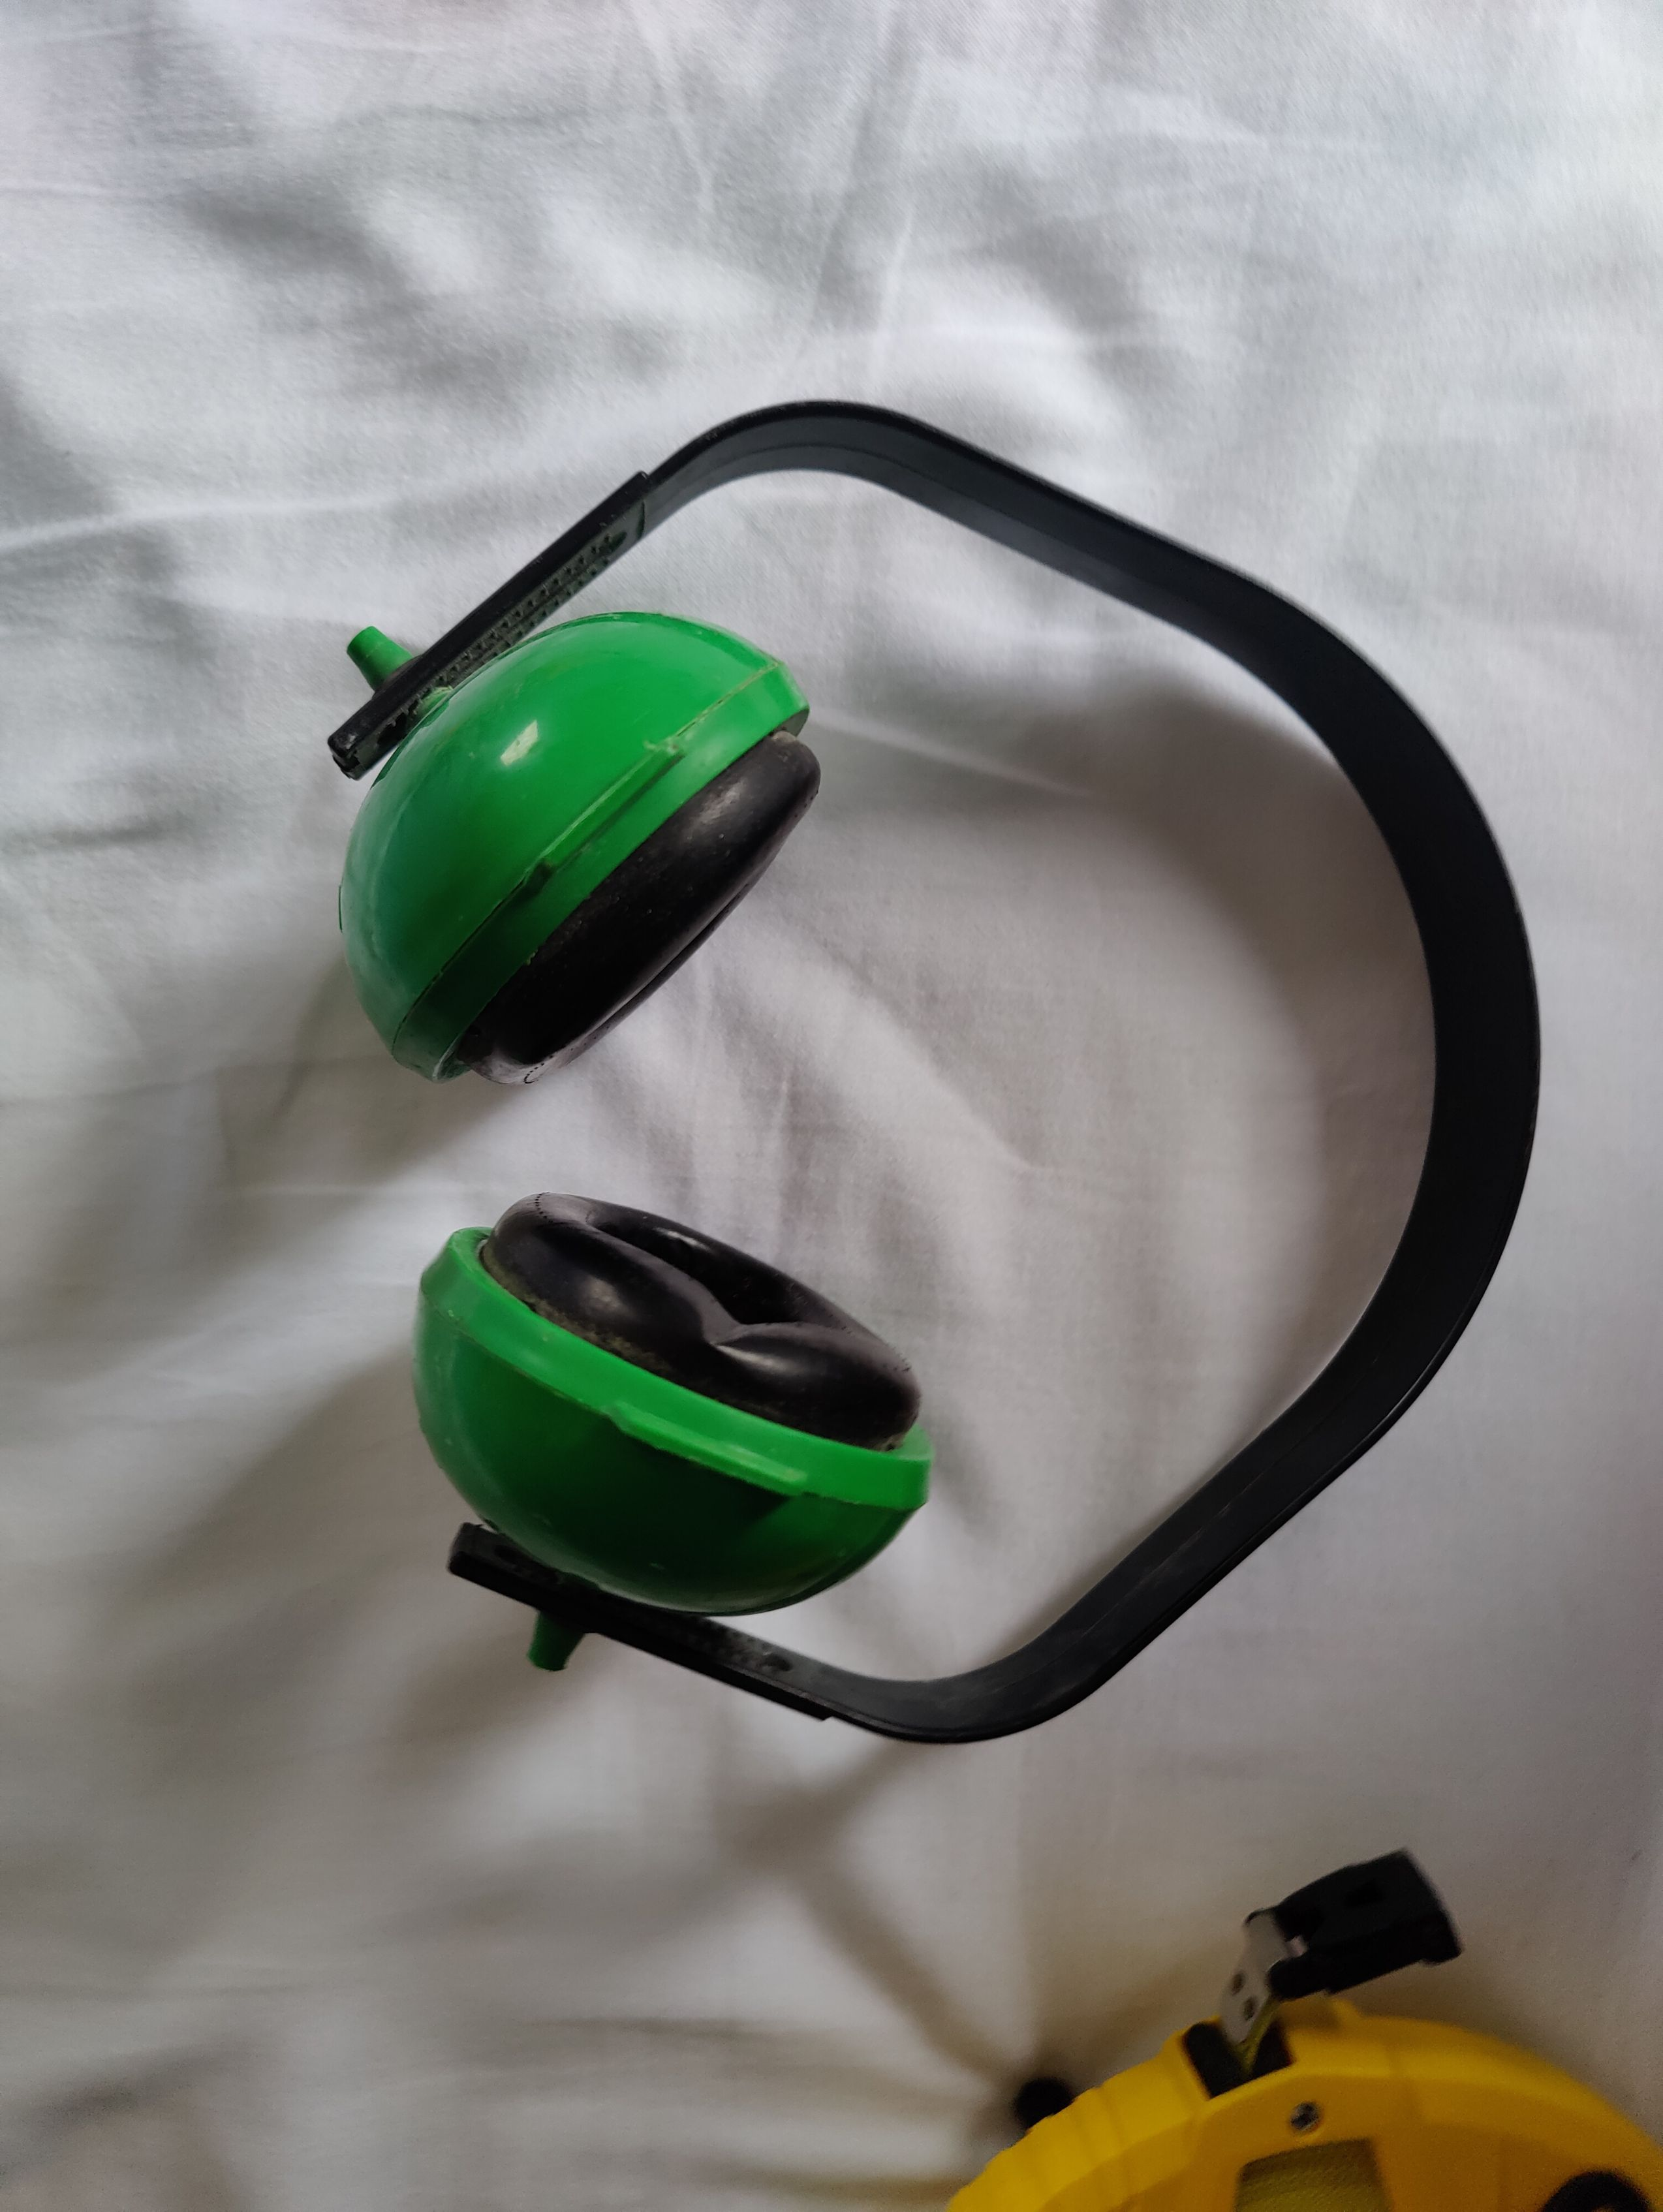headphones: (327, 405, 1535, 1738)
